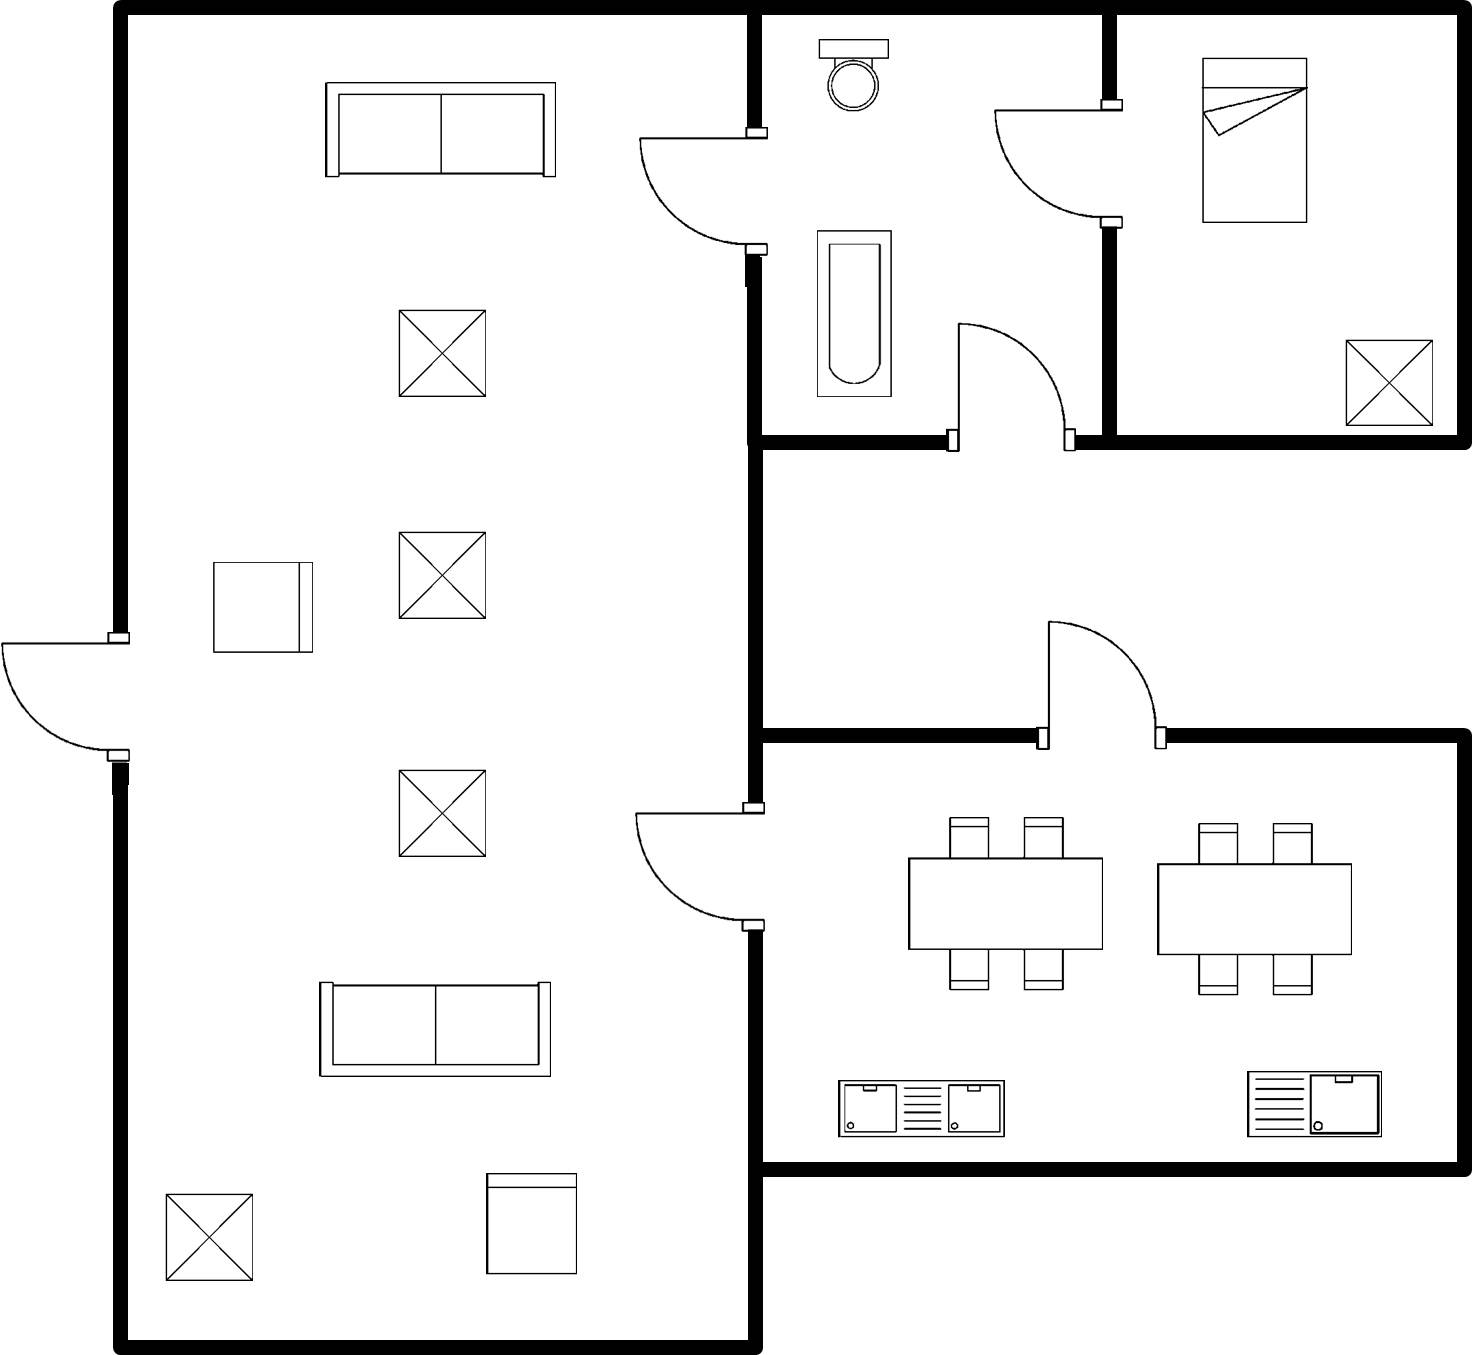bed: (1189, 49, 1322, 236)
coffee_table: (389, 757, 494, 869), (157, 1184, 263, 1294), (388, 522, 498, 627), (389, 302, 498, 405), (1331, 330, 1442, 430)
dining_table: (895, 805, 1114, 998), (1145, 814, 1363, 1005)
large_sink: (806, 28, 894, 119)
large_sofa: (314, 72, 563, 189), (307, 972, 560, 1086)
sink: (1239, 1060, 1389, 1145)
small_sofa: (476, 1157, 589, 1284), (205, 549, 320, 664)
tub: (807, 223, 902, 406)
twin_sink: (826, 1068, 1017, 1149)
